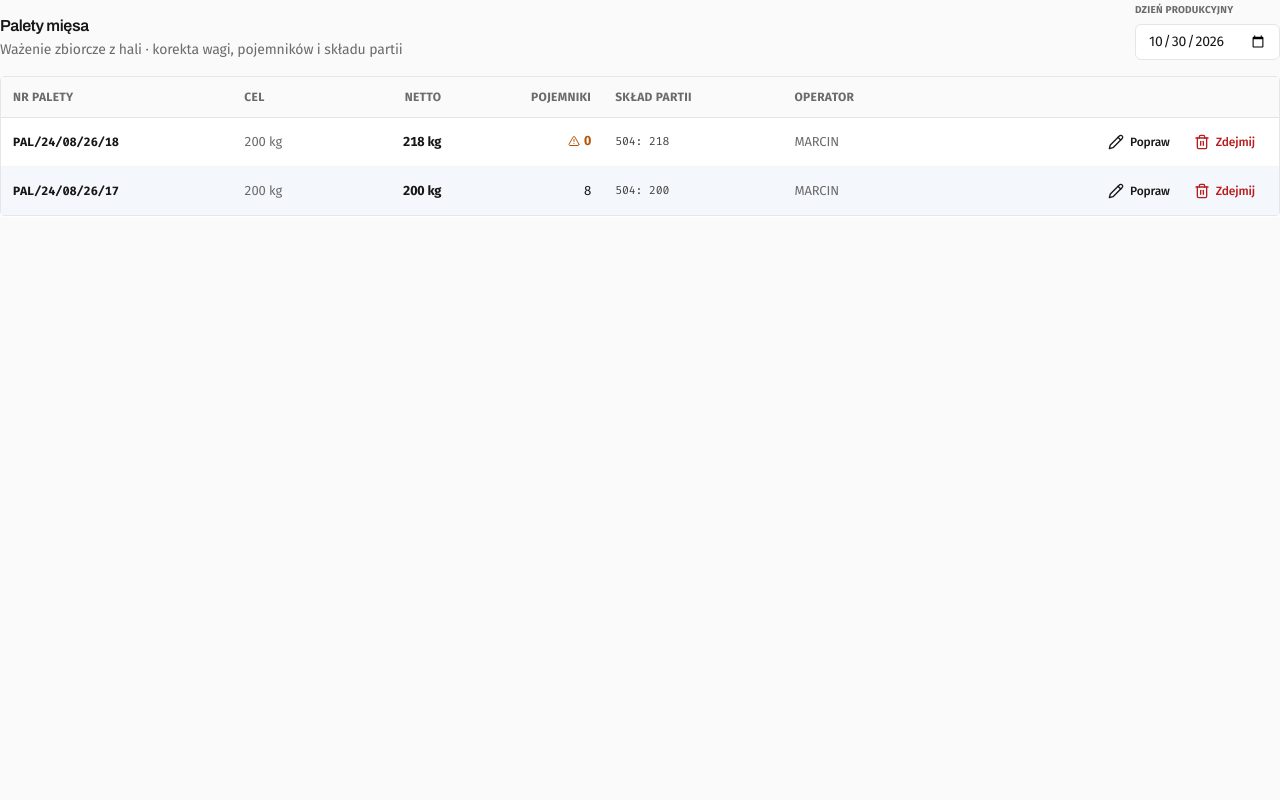
it: MeatPalletsPage — korekta palety › niezgodna suma składu blokuje zapis
Click the button "Popraw" in the row of "PAL/24/08/26/18".
click(1139, 142)  # box [1096, 126, 1182, 158]
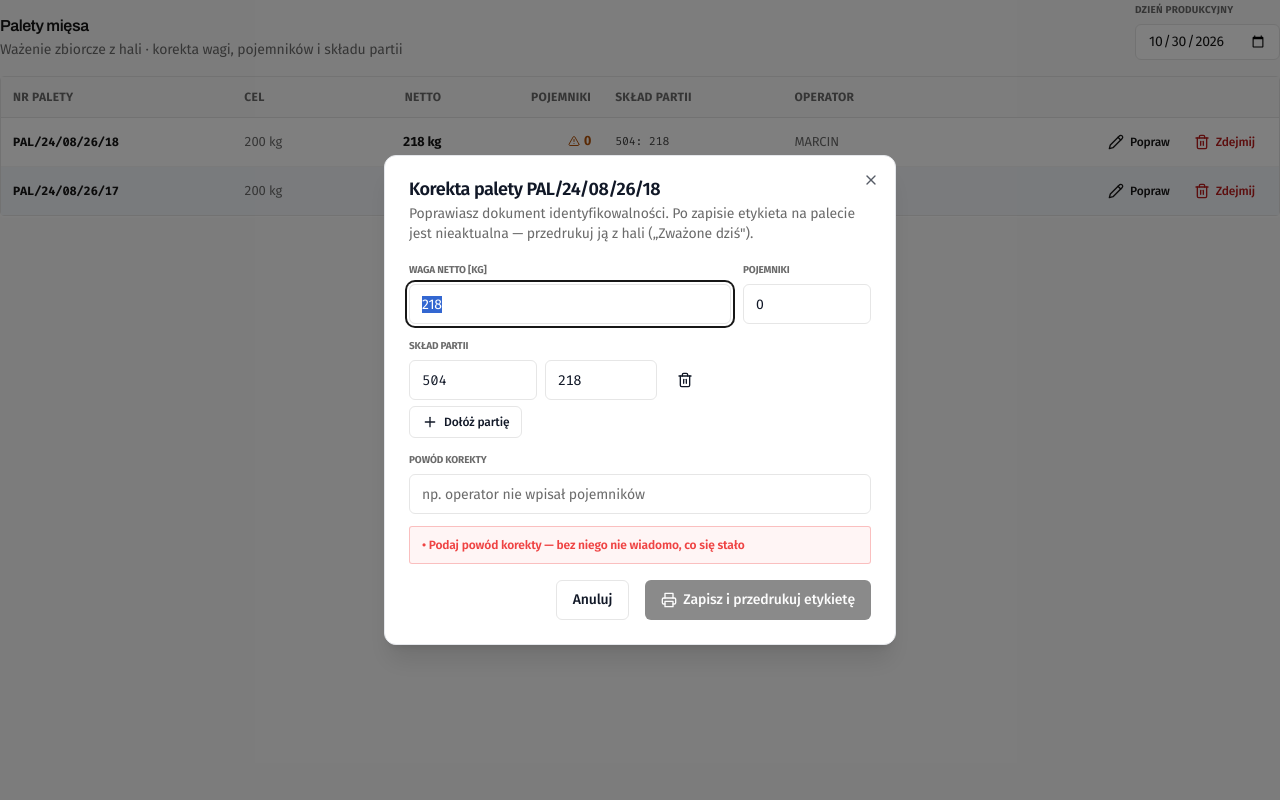
Type "brak pojemników" into the field with placeholder "np. operator nie wpisał pojemników".
click(640, 494); type("brak pojemników")  # box [409, 474, 871, 514]
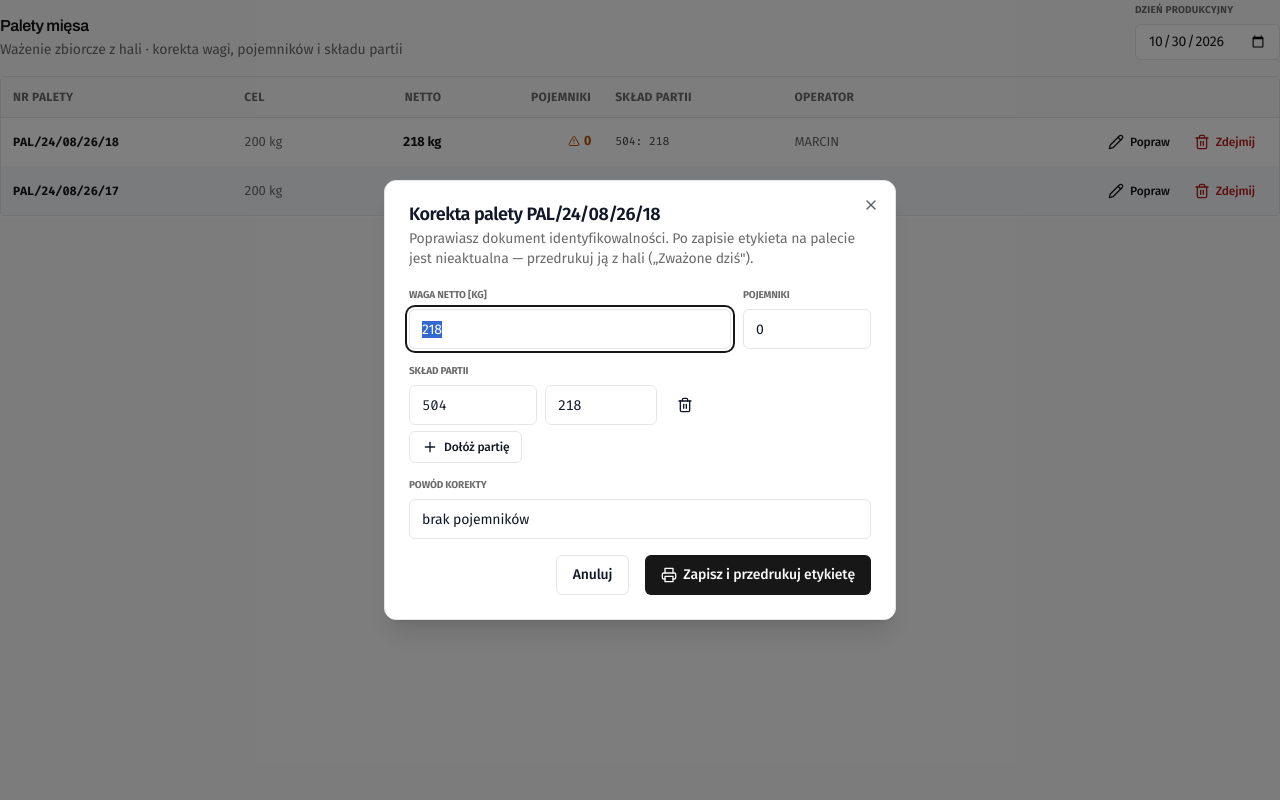
Replace the text in the field below "Waga netto [kg]" with "200" at [570, 329], box [409, 309, 731, 349]
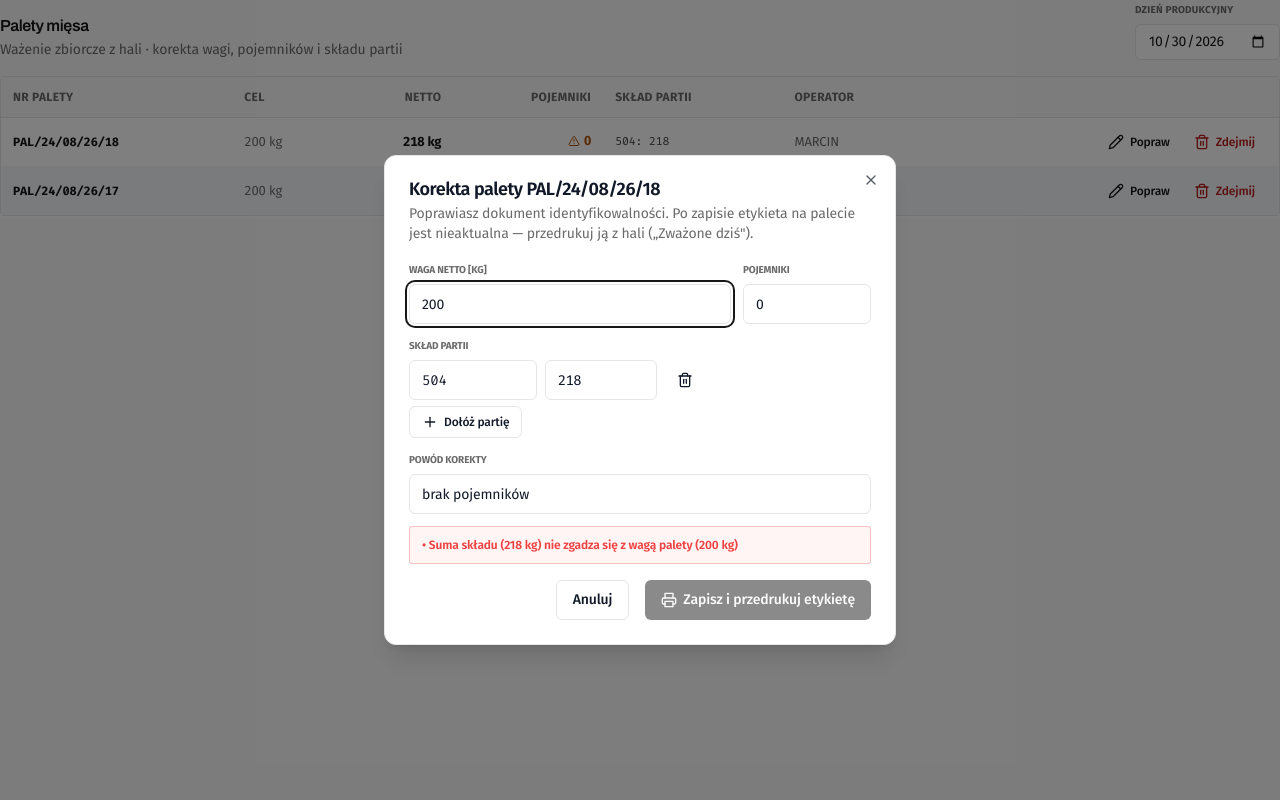
Expected: the list with test id "korekta-bledy" shows "nie zgadza się", [429, 538, 738, 552]
Expected: the button "Zapisz i przedrukuj etykietę" is disabled, [645, 580, 871, 620]
